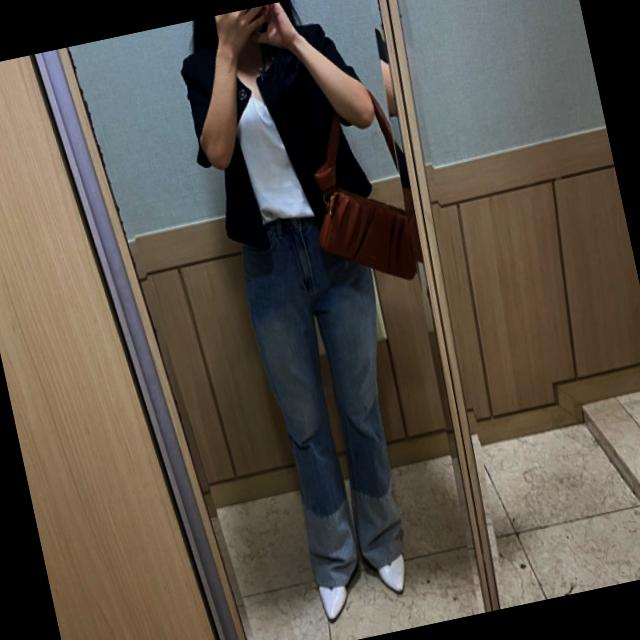blazer: (172, 5, 394, 258)
denimpants: (231, 198, 435, 592)
